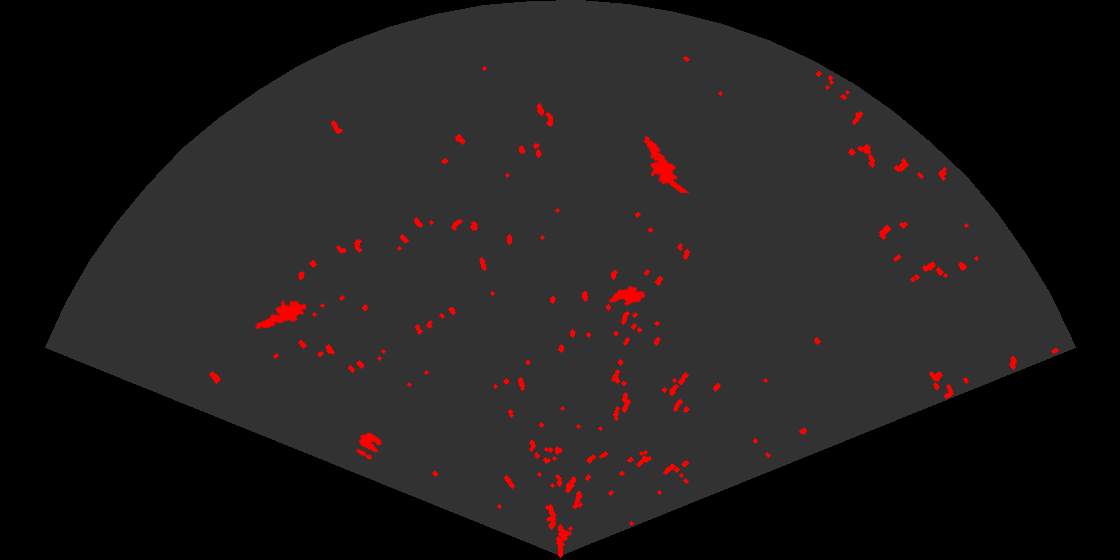AUV: (607, 284, 647, 307)
ball: (354, 431, 384, 461)
frogman: (642, 134, 689, 193), (254, 298, 306, 331)
